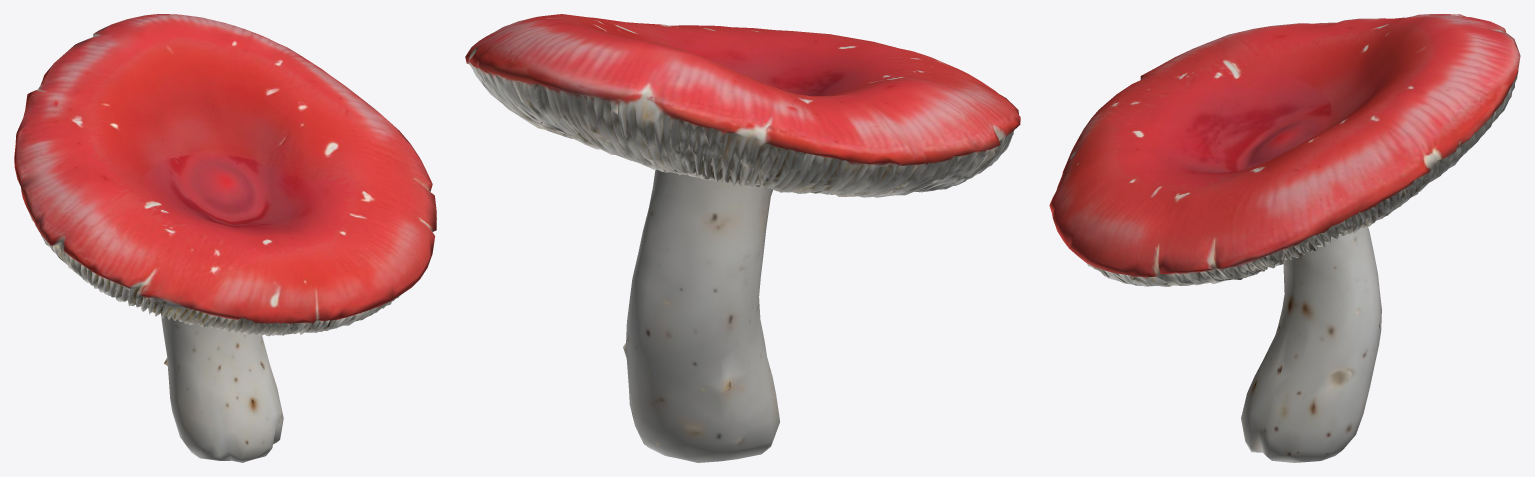
File: huba.glb
The picture shows the model from 3 angles, left to right: view 1: azimuth 30°, elevation 25°; view 2: azimuth 150°, elevation 25°; view 3: azimuth 270°, elevation 25°; orthographic projection. The views are drawn at different scales.
Visible parts, largest first — view 1: Mesh1.0; view 2: Mesh1.0; view 3: Mesh1.0.
Boxes of the visible parts, x1=… form: Mesh1.0: x1=14, y1=14, x2=436, y2=462; Mesh1.0: x1=465, y1=14, x2=1020, y2=462; Mesh1.0: x1=1049, y1=14, x2=1520, y2=462.
Size of the model in its own units: 1.91 by 1.79 by 1.88.
1 material, 1 textured.
